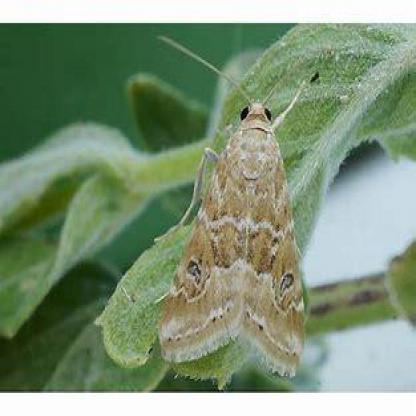Hellula undalis: (146, 31, 323, 390)
